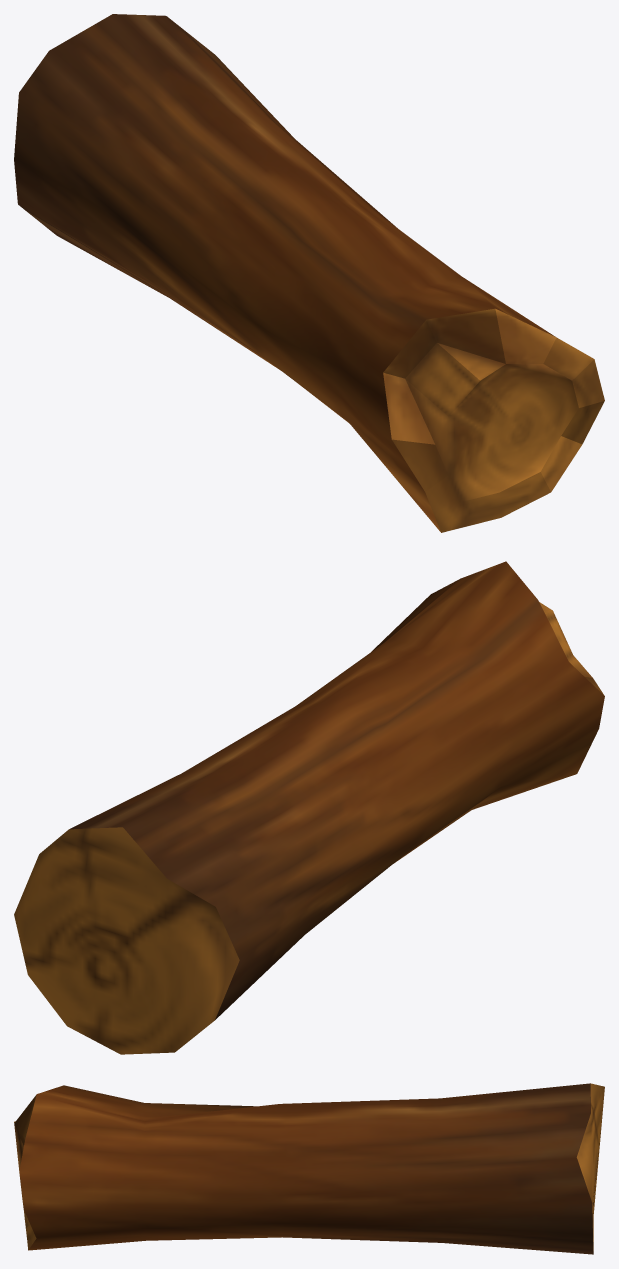
The model's file is wood_7.fbx.
3 views of the same model, one above another, from view 1: azimuth 30°, elevation 25°; view 2: azimuth 150°, elevation 25°; view 3: azimuth 270°, elevation 25° (orthographic). The views are drawn at different scales.
Parts seen in each view (by area): view 1: wood_7; view 2: wood_7; view 3: wood_7.
Part boxes in pixels (x1,y1,x2,y2): wood_7: (14, 14, 604, 532); wood_7: (14, 561, 604, 1054); wood_7: (14, 1083, 604, 1254).
Size of the model in its own units: 0.7885 by 0.7884 by 2.59.
